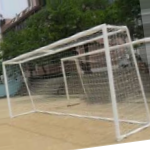goals: (2, 22, 150, 140)
